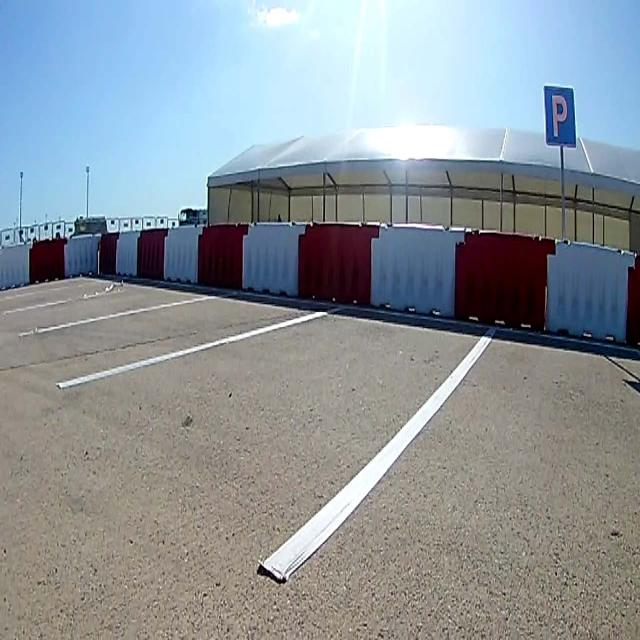park: (543, 86, 577, 147)
